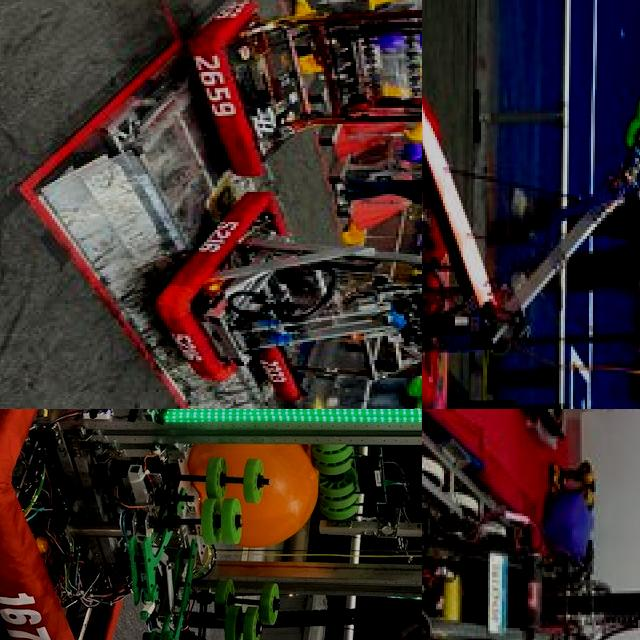FRC-Robots: (0, 409, 422, 640), (422, 0, 640, 400), (422, 409, 640, 640), (128, 235, 422, 377), (199, 0, 422, 187), (251, 314, 422, 409)
